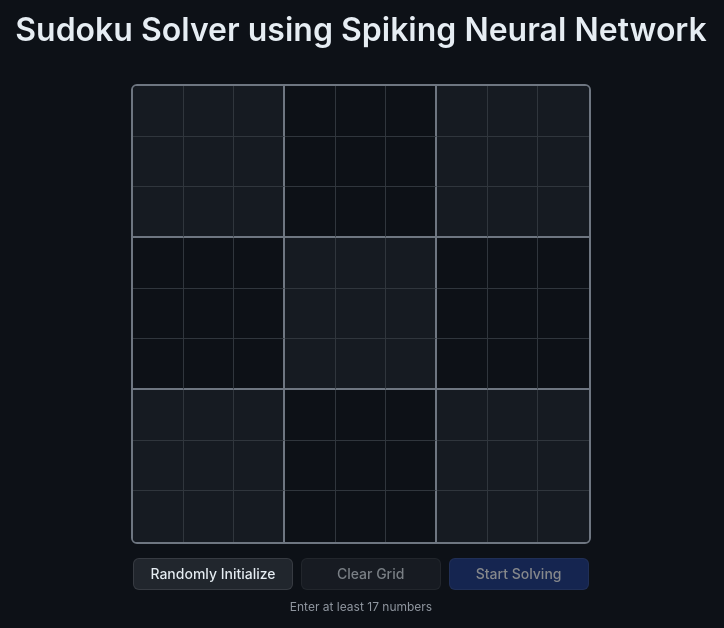
Test: App › enables Start after Randomly Initialize
The image size is (724, 628).
Click the button "Randomly Initialize" at (213, 574), box [133, 558, 293, 590]
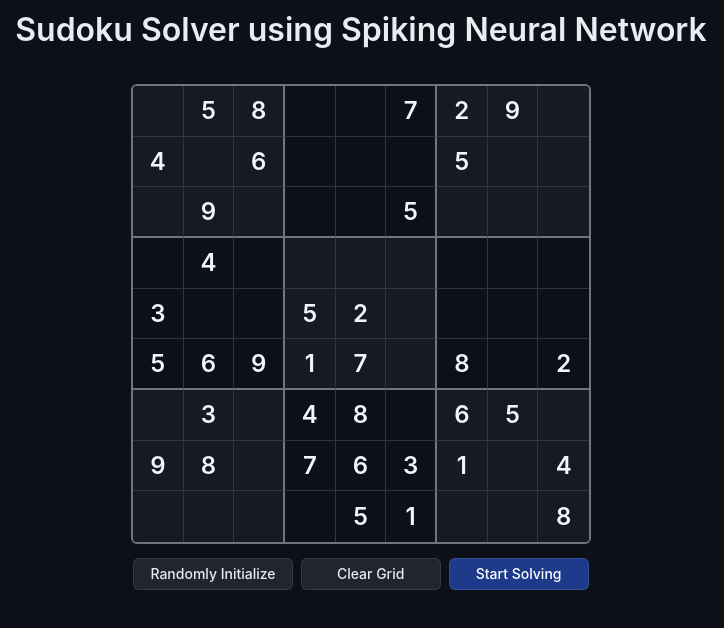
expect the button "Start Solving" is enabled: met, box [449, 558, 589, 590]
